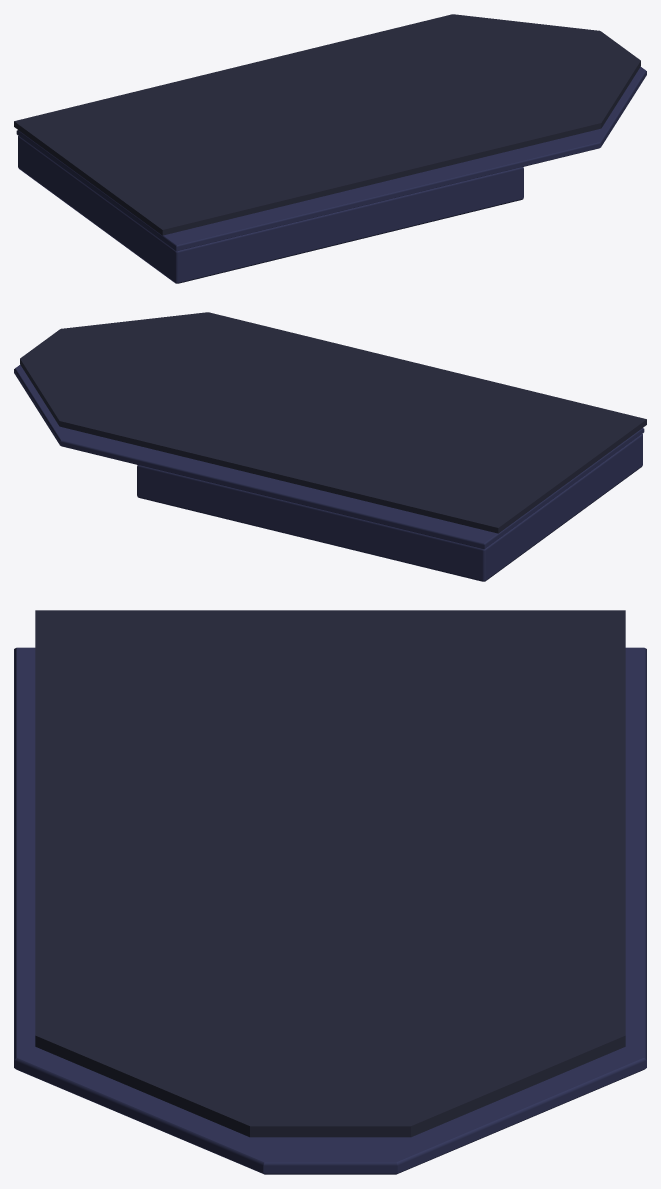
File: HULL_deck_slab.glb
3 renders of one model, top to bottom at view 1: azimuth 30°, elevation 25°; view 2: azimuth 150°, elevation 25°; view 3: azimuth 270°, elevation 25°, orthographic. The views are drawn at different scales.
Parts seen in each view (by area): view 1: HULL_deck_slab.001; view 2: HULL_deck_slab.001; view 3: HULL_deck_slab.001.
Part boxes in pixels (x1,y1,x2,y2): HULL_deck_slab.001: [14, 14, 646, 283]; HULL_deck_slab.001: [14, 312, 646, 581]; HULL_deck_slab.001: [14, 610, 646, 1174].
Bounding box in the file's own units: 23.15 × 2.18 × 11.8.
